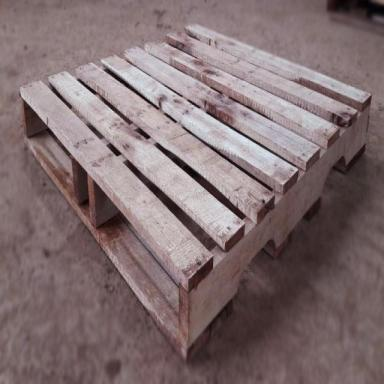pallet: (19, 23, 372, 365)
